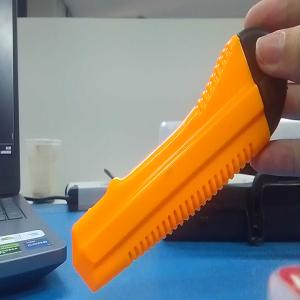estilete: (72, 26, 288, 293)
